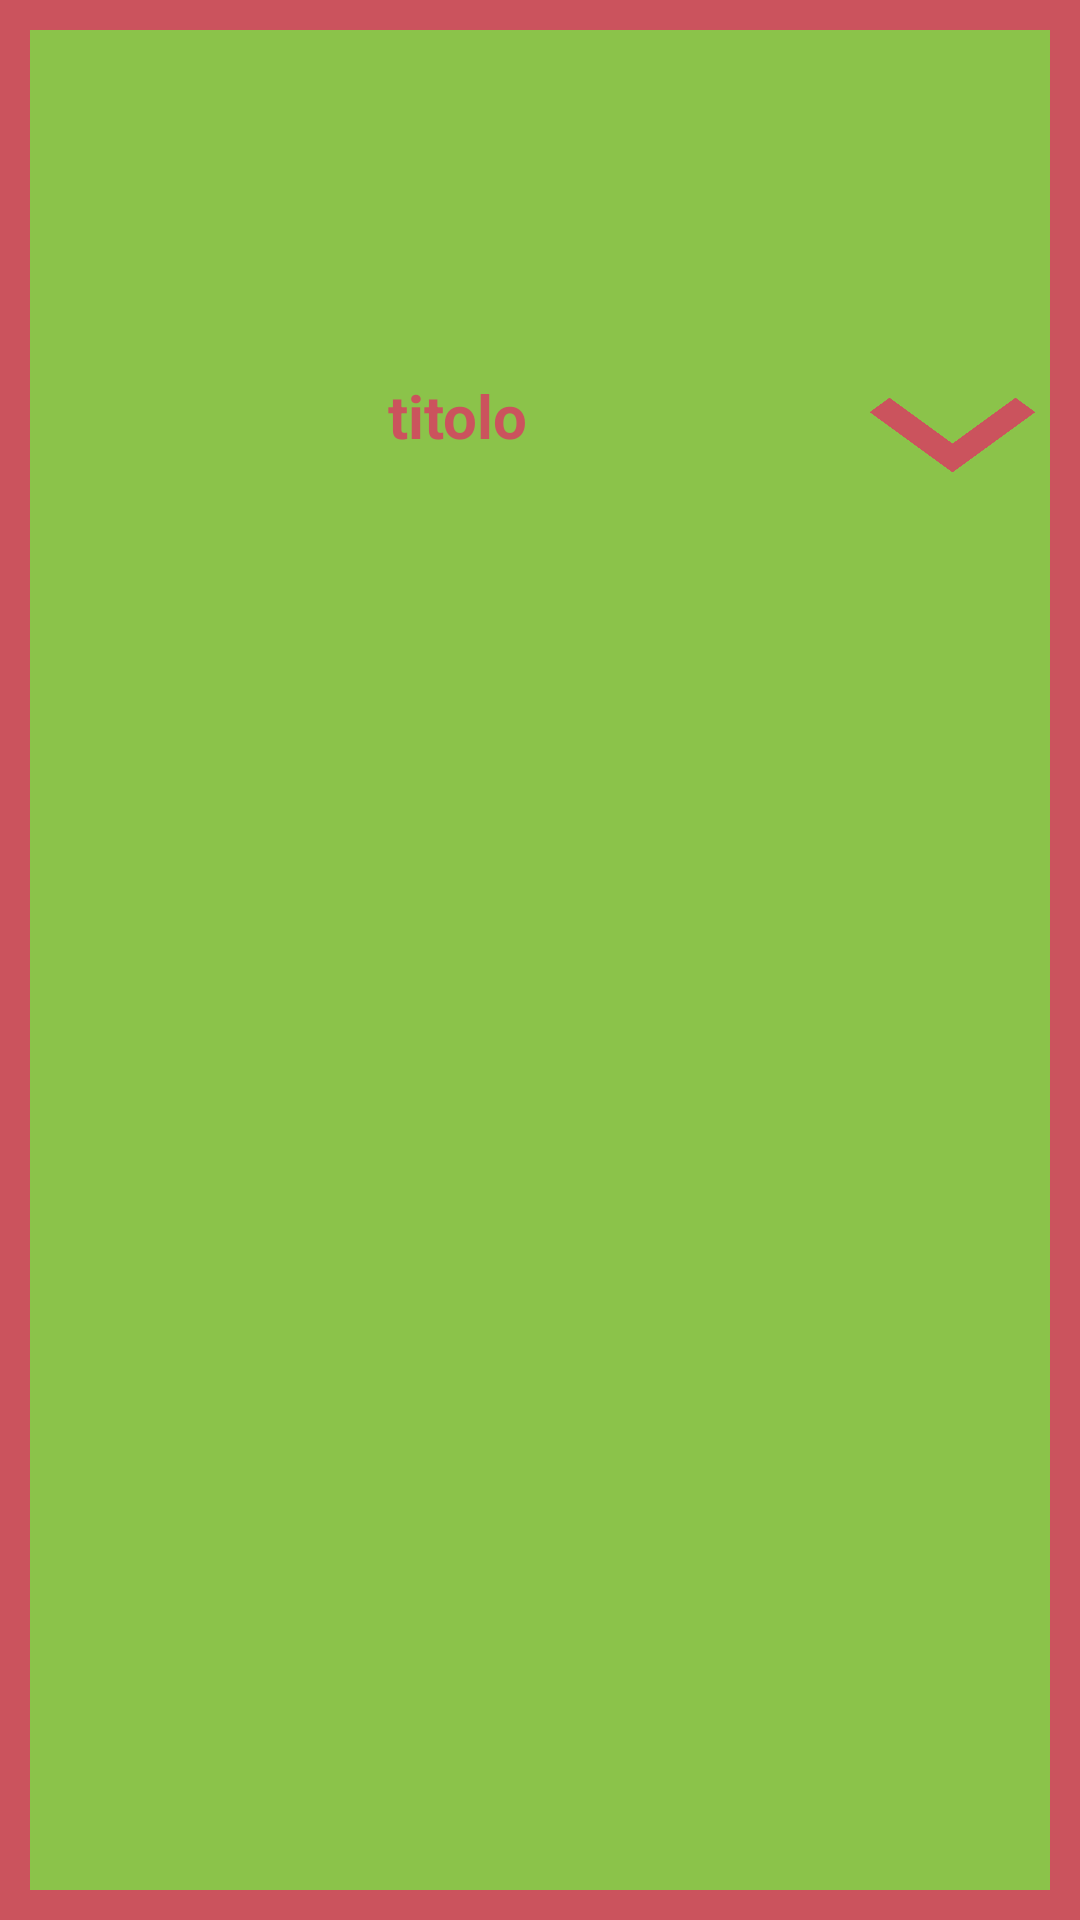

Screen size 1080×1920. Icon name, then its center in pixels as (x=x, y=y):
down chevron: (x=952, y=435)
